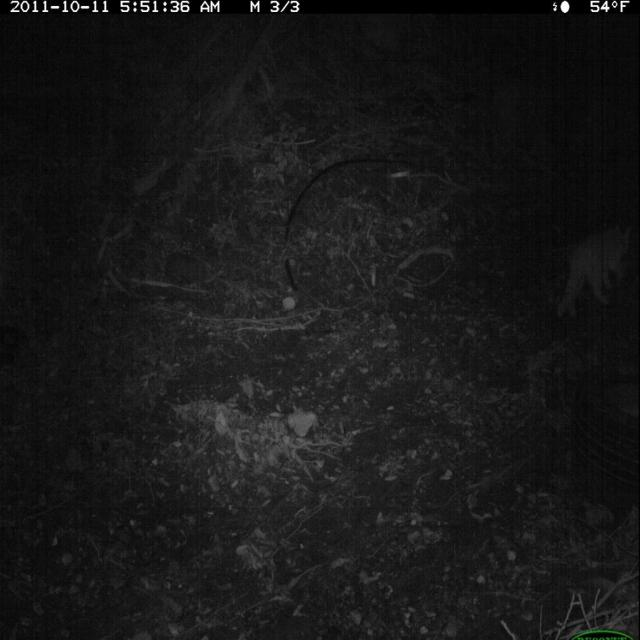cat: (549, 220, 635, 326)
